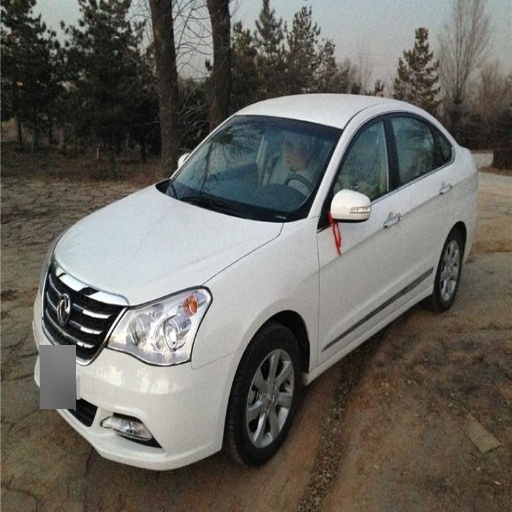front_bumper: (41, 274, 244, 469)
front_glass: (156, 115, 342, 218)
front_left_door: (316, 112, 404, 363)
